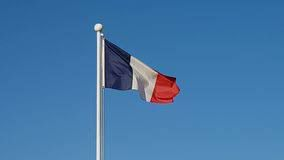French Flag: (103, 39, 179, 105)
